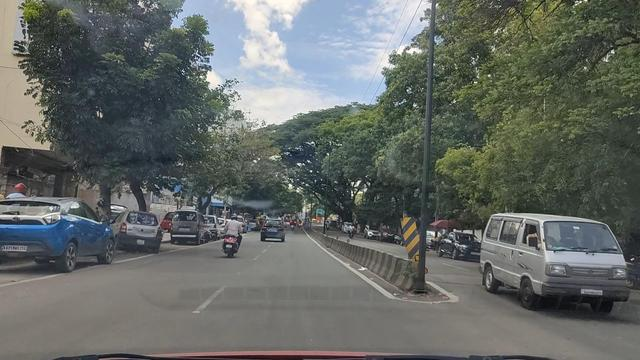LMV: (5, 193, 108, 264), (111, 209, 163, 249), (218, 205, 241, 260)
